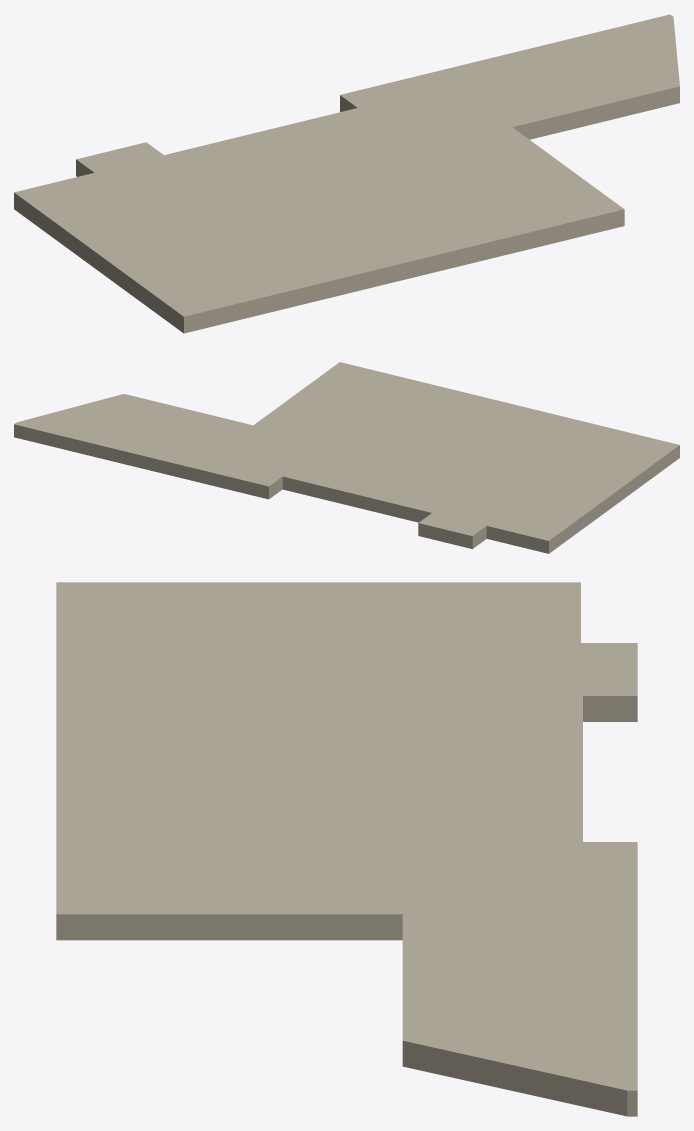
3 views of the same model, one above another, from view 1: azimuth 30°, elevation 25°; view 2: azimuth 150°, elevation 25°; view 3: azimuth 270°, elevation 25° (orthographic). The views are drawn at different scales.
Visible parts, largest first — view 1: B-FF-SLAB-1; view 2: B-FF-SLAB-1; view 3: B-FF-SLAB-1.
Part boxes in pixels (x1=…): B-FF-SLAB-1: x1=14, y1=14, x2=679, y2=333; B-FF-SLAB-1: x1=14, y1=362, x2=679, y2=553; B-FF-SLAB-1: x1=56, y1=582, x2=637, y2=1116.
Size of the model in its own units: 12.4 by 0.295 by 6.
